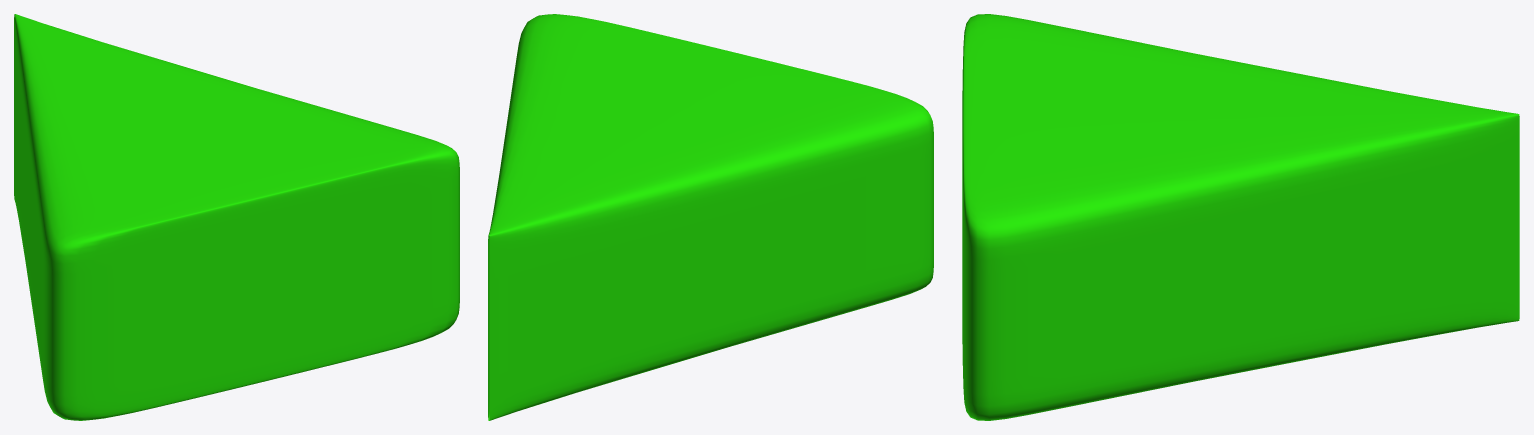
Rendered from strzalka6.gltf.
3 views of the same model, side by side, from view 1: azimuth 30°, elevation 25°; view 2: azimuth 150°, elevation 25°; view 3: azimuth 270°, elevation 25° (orthographic). The views are drawn at different scales.
Parts seen in each view (by area): view 1: Cube; view 2: Cube; view 3: Cube.
Part boxes in pixels (x1,y1,x2,y2): Cube: (14, 14, 459, 420); Cube: (488, 14, 933, 420); Cube: (962, 14, 1519, 420).
Bounding box in the file's own units: 2.77 × 1.21 × 2.96.
